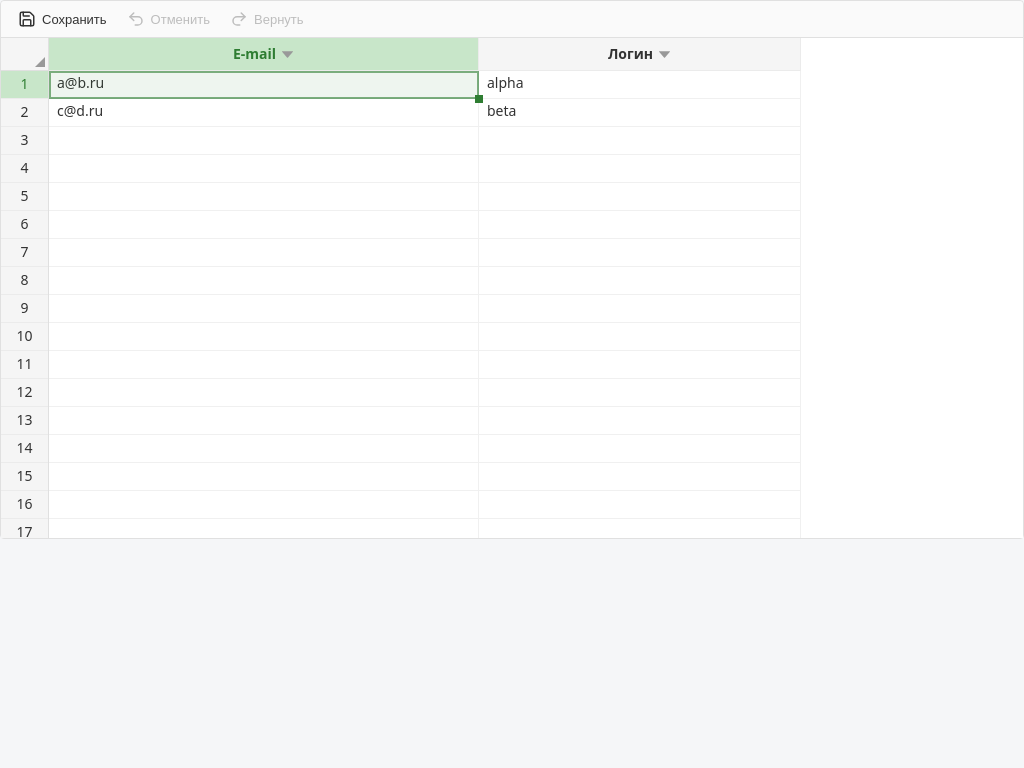
Test: NativeTable: валидация › показывает ошибку pattern при некорректном e-mail
Double-click the element showing "a@b.ru": (264, 85) [49,71,479,99]
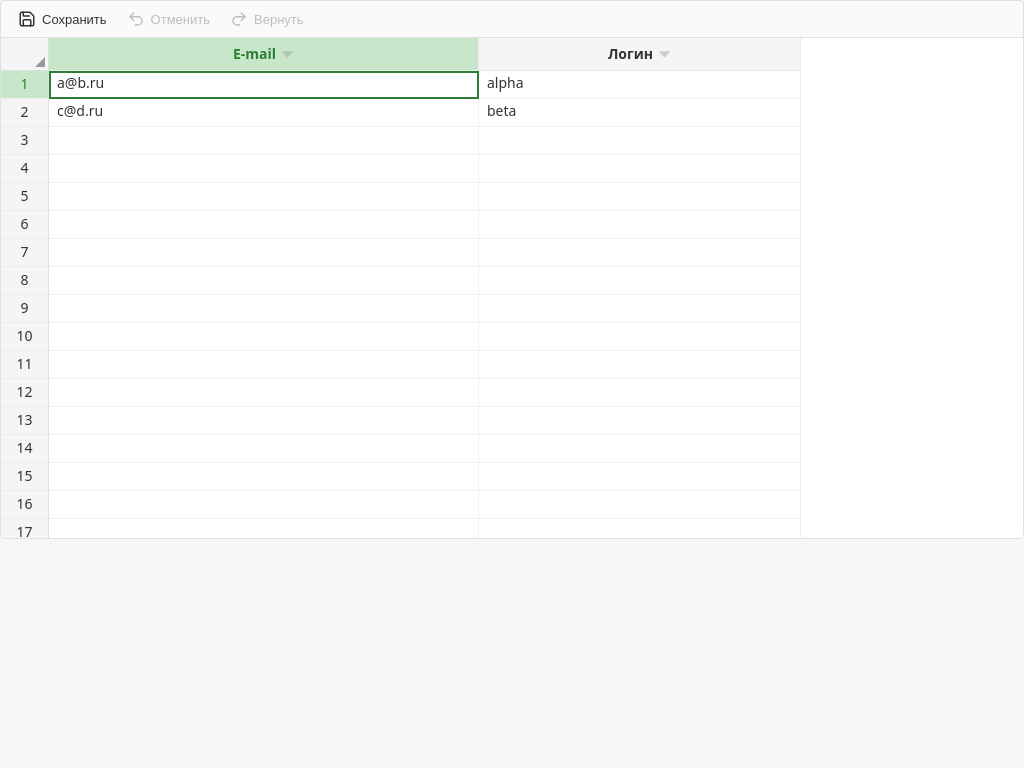
Replace the text in the text box with class "nt-editor--textarea" with "не-email": (264, 85) [49,71,479,99]
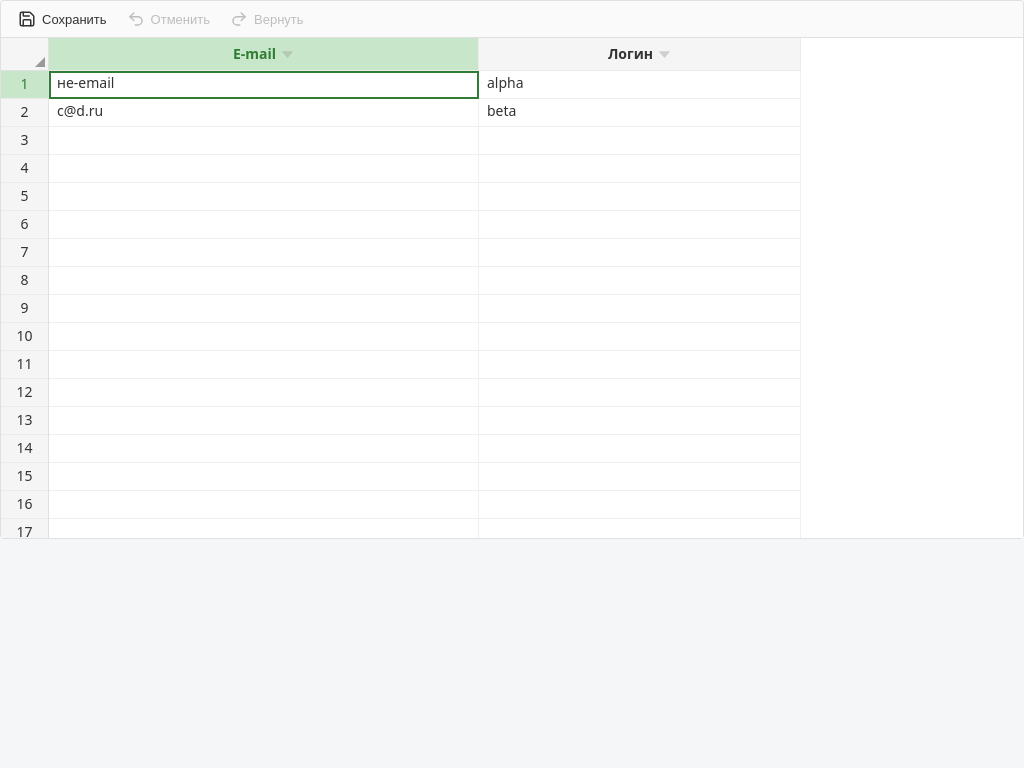
Press Enter in the text box with class "nt-editor--textarea", box [49,71,479,99]
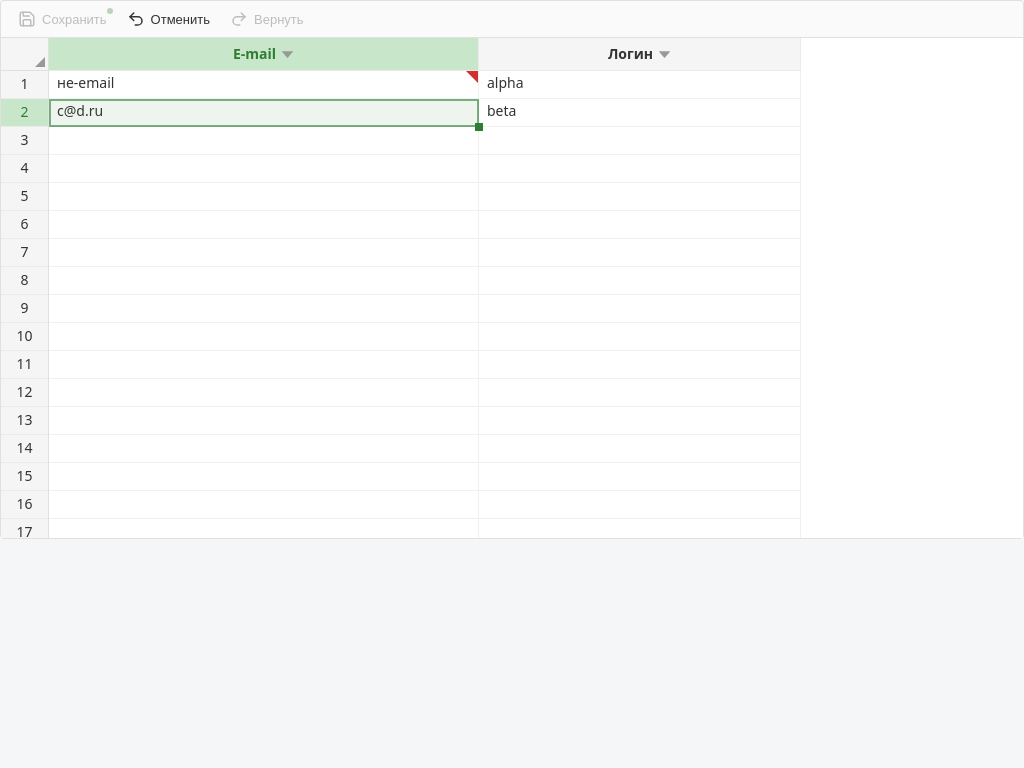
Now the element with class "nt-cell-error" is shown, box [466,71,478,83]
Now the button "Сохранить" is disabled, box [9,5,116,33]
